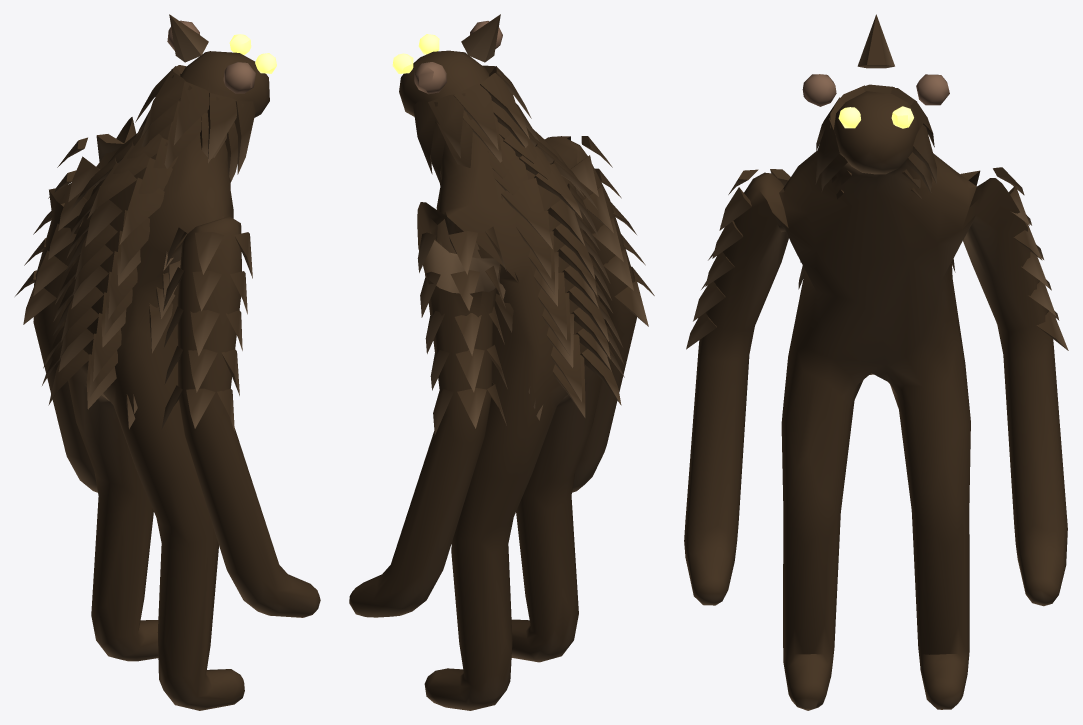
File: agropelter.glb
3 renders of one model, left to right at view 1: azimuth 30°, elevation 25°; view 2: azimuth 150°, elevation 25°; view 3: azimuth 270°, elevation 25°, orthographic.
Visible parts, largest first — view 1: agropelter.001; view 2: agropelter.001; view 3: agropelter.001.
Boxes of the visible parts, bbox=[...] form: agropelter.001: bbox=[15, 14, 320, 710]; agropelter.001: bbox=[349, 14, 654, 710]; agropelter.001: bbox=[684, 14, 1068, 710].
Size of the model in its own units: 0.6737 by 2 by 1.02.
